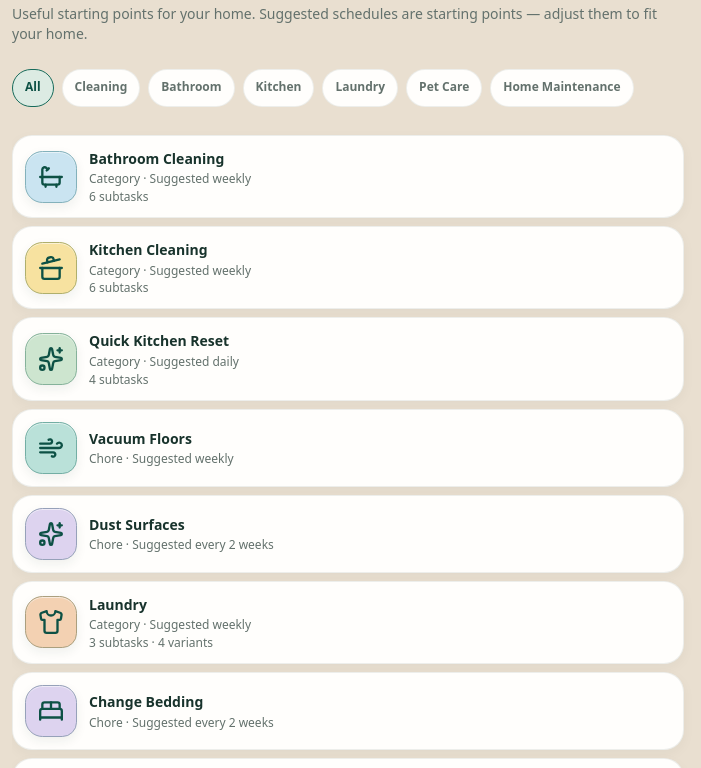
it: SuggestionBrowser › renders static suggestions without a database write and filters by collection
Expected: the text "Category · Suggested weekly" below "Bathroom Cleaning" is shown, [89,170,251,187]
Click the button "Laundry": (360, 88) [322,69,398,107]
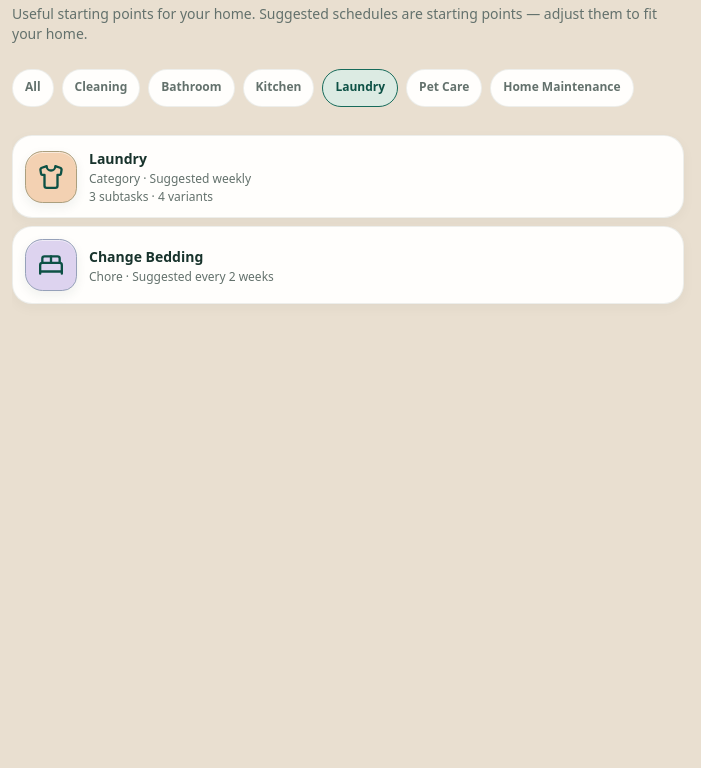
Expected: the link "Laundry Category · Suggested weekly 3 subtasks · 4 variants" is shown, [12,135,684,218]
Expected: the link "Bathroom Cleaning" is gone
